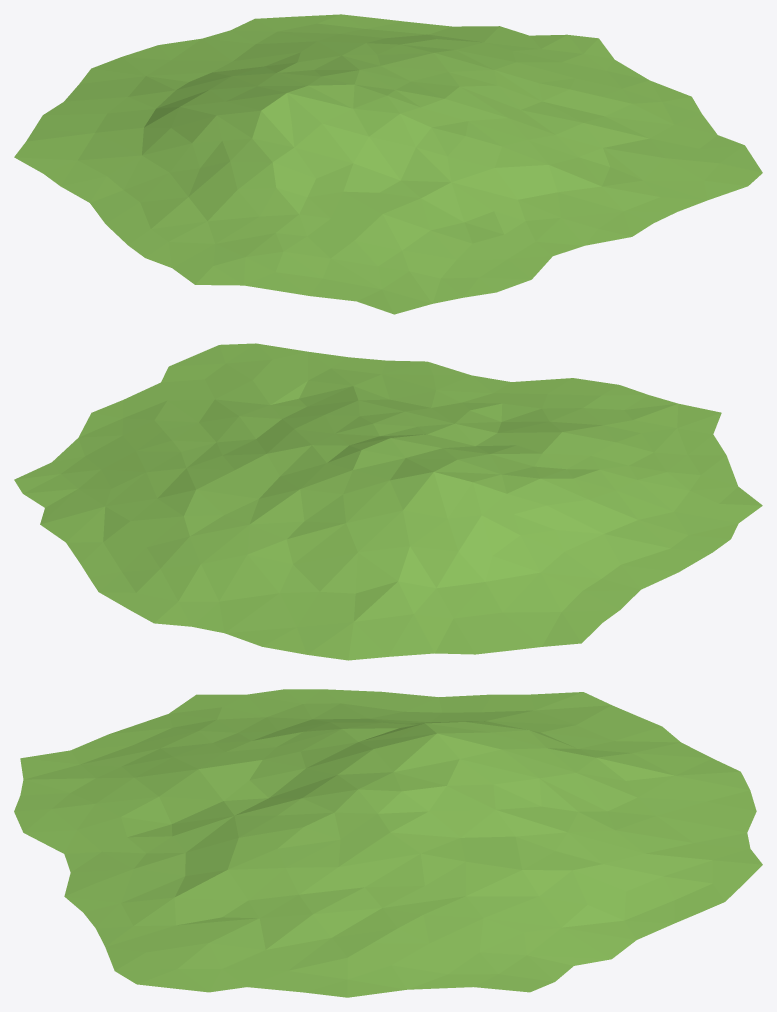
File: MT_Mountain_M_a_05_LOD.fbx
The picture shows the model from 3 angles, top to bottom: view 1: azimuth 30°, elevation 25°; view 2: azimuth 150°, elevation 25°; view 3: azimuth 270°, elevation 25°; orthographic projection. The views are drawn at different scales.
Parts seen in each view (by area): view 1: MT_Mountain_M_a_05_LOD0; view 2: MT_Mountain_M_a_05_LOD0; view 3: MT_Mountain_M_a_05_LOD0.
Boxes of the visible parts, x1,y1,x2,y2 form: MT_Mountain_M_a_05_LOD0: (14,14,762,314); MT_Mountain_M_a_05_LOD0: (14,343,762,660); MT_Mountain_M_a_05_LOD0: (14,689,762,997).
Size of what is drawn, in the model's own units: 4531 by 473 by 4649.
